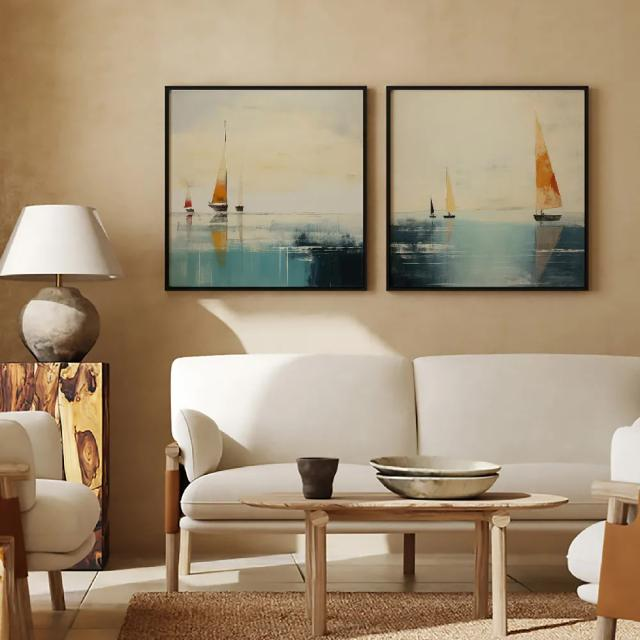painting: (166, 84, 368, 290), (387, 84, 589, 290)
